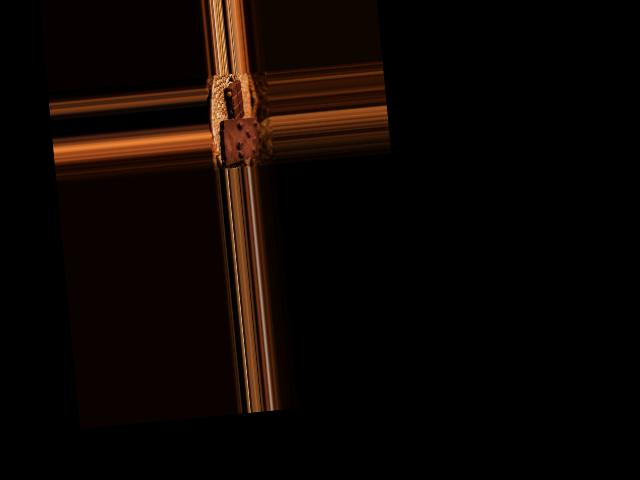chocolate: (218, 113, 262, 166)
